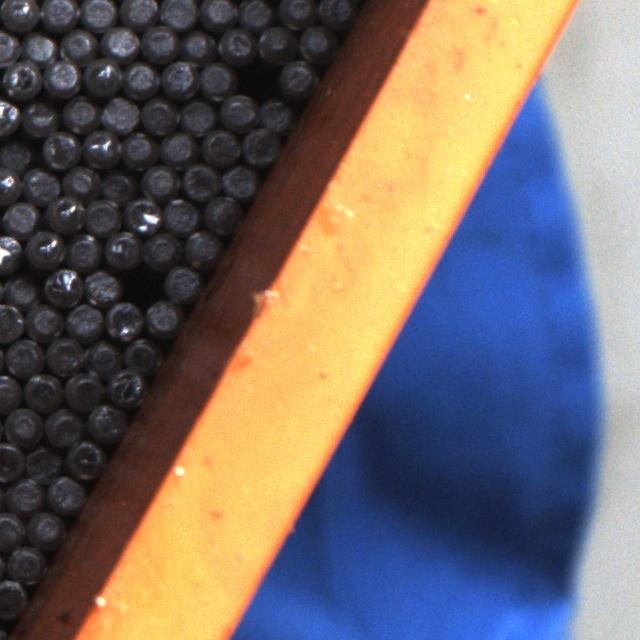tool: (86, 401, 127, 442), (63, 438, 104, 479), (5, 543, 46, 583), (63, 367, 103, 407), (0, 58, 40, 98), (240, 126, 280, 166), (3, 335, 43, 375), (43, 406, 83, 446), (22, 370, 62, 410), (106, 366, 146, 406), (25, 226, 64, 267), (5, 473, 45, 512), (80, 126, 119, 166), (60, 95, 100, 134), (182, 227, 222, 266), (141, 228, 180, 268), (201, 126, 240, 166), (19, 98, 58, 138), (180, 160, 220, 199), (218, 91, 257, 130), (104, 301, 143, 340), (3, 404, 42, 443), (64, 230, 103, 269), (41, 56, 80, 95), (41, 265, 80, 304), (45, 333, 84, 372), (201, 192, 240, 231), (46, 473, 85, 512), (102, 228, 140, 268), (296, 22, 334, 62), (140, 96, 178, 135), (40, 130, 79, 168), (101, 94, 139, 133), (119, 128, 157, 167), (256, 21, 294, 60), (144, 297, 182, 336), (123, 195, 161, 234), (276, 58, 314, 97), (162, 264, 201, 302), (48, 191, 87, 229), (217, 24, 255, 62), (162, 195, 200, 233), (65, 300, 103, 338), (160, 128, 198, 166), (179, 97, 217, 135), (140, 22, 178, 60), (100, 23, 138, 61), (159, 58, 197, 96), (82, 56, 120, 94), (83, 266, 121, 304), (25, 302, 63, 340), (197, 59, 235, 97), (140, 162, 178, 200), (22, 165, 60, 203), (25, 506, 63, 544), (220, 160, 258, 198), (24, 443, 62, 481), (1, 198, 40, 235), (83, 336, 122, 373), (258, 95, 297, 132), (125, 334, 164, 371), (59, 25, 97, 62), (84, 196, 122, 233), (121, 59, 159, 96), (62, 160, 100, 197), (97, 167, 135, 204), (123, 265, 161, 302), (237, 59, 276, 95), (19, 28, 56, 65), (4, 271, 41, 308), (179, 26, 216, 62), (0, 136, 35, 173), (39, 0, 77, 30), (237, 0, 274, 30), (159, 0, 197, 29), (78, 0, 116, 29), (197, 0, 235, 29), (0, 0, 37, 29), (0, 578, 26, 618), (314, 0, 354, 25), (118, 0, 156, 26), (0, 301, 24, 341), (278, 0, 316, 25), (0, 441, 23, 482), (0, 509, 23, 548), (0, 372, 22, 411), (0, 231, 21, 270), (0, 98, 20, 138), (0, 164, 21, 202), (0, 28, 19, 66)
